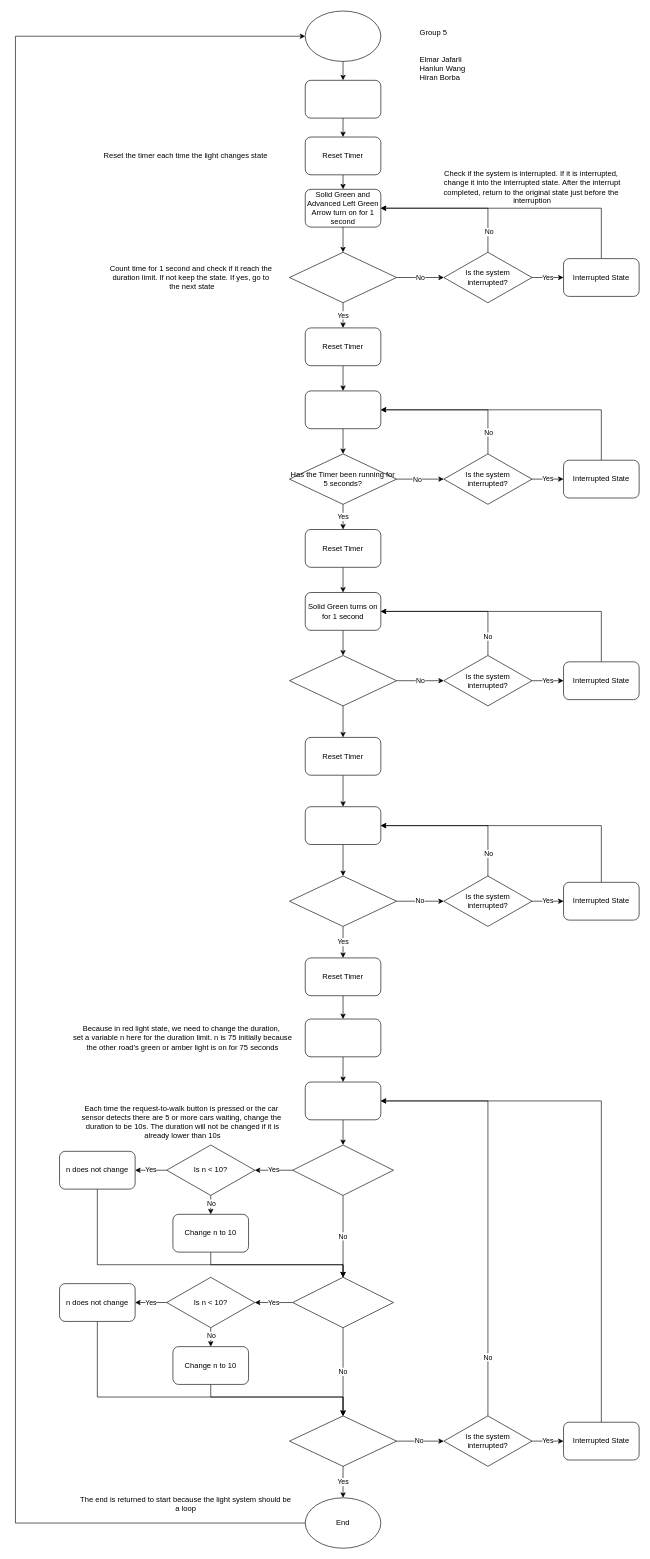
The diagram is 650 pixels wide and 1559 high, and some of its shapes have lost their labels. The shapes that lost their labels are listed below. From the top down, each one's centre as x and y in pixels, then its label:
At point 343,35: "Start".
At point 343,99: "Start a Timer".
At point 343,277: "Has the Timer been running for 15 seconds?".
At point 343,409: "Solid Green and Advanced Left Amber Arrow turn on for 1 second".
At point 343,680: "Has the Timer been running for 45 seconds?".
At point 343,825: "Solid Amber turns on for 1 second".
At point 343,900: "Has the Timer been running for 10 seconds?".
At point 343,1037: "Count for n seconds, n is 75 initially".
At point 343,1100: "Solid Red turns on for 1 second".
At point 342,1169: "Is Request-To-Walk Button pressed?".
At point 342,1302: "Does Car Sensor detect there are 5 or more cars wating?".
At point 343,1440: "Has the Timer been running for n seconds?".
